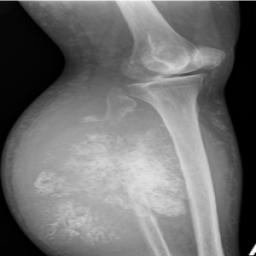cancer: (36, 114, 183, 244)
